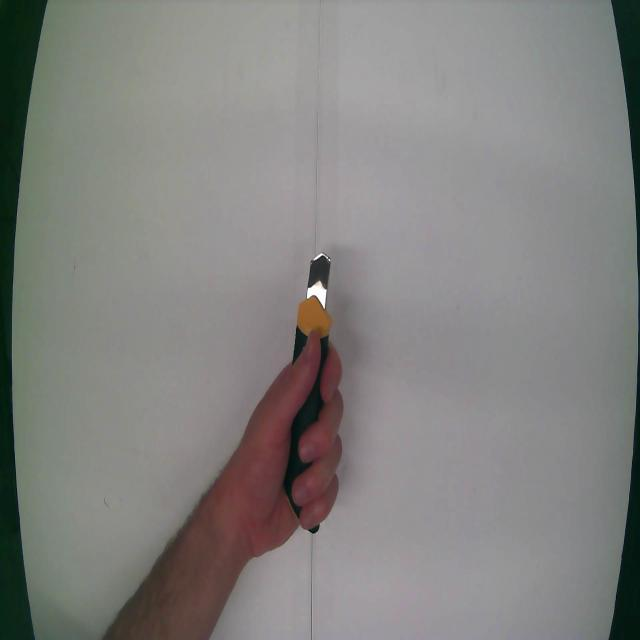estilete: (285, 253, 330, 516)
